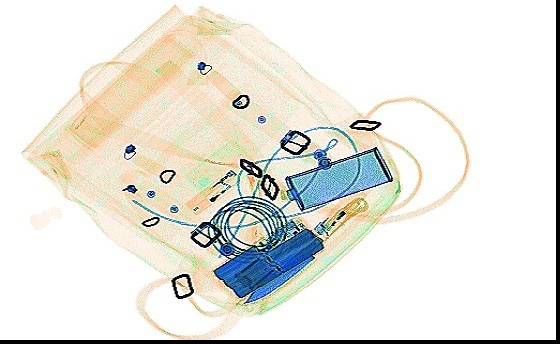knife: (236, 197, 368, 304)
lighter: (184, 168, 239, 216), (312, 192, 367, 236)
powerbank: (207, 216, 327, 298)
zippooil: (283, 144, 394, 211)
